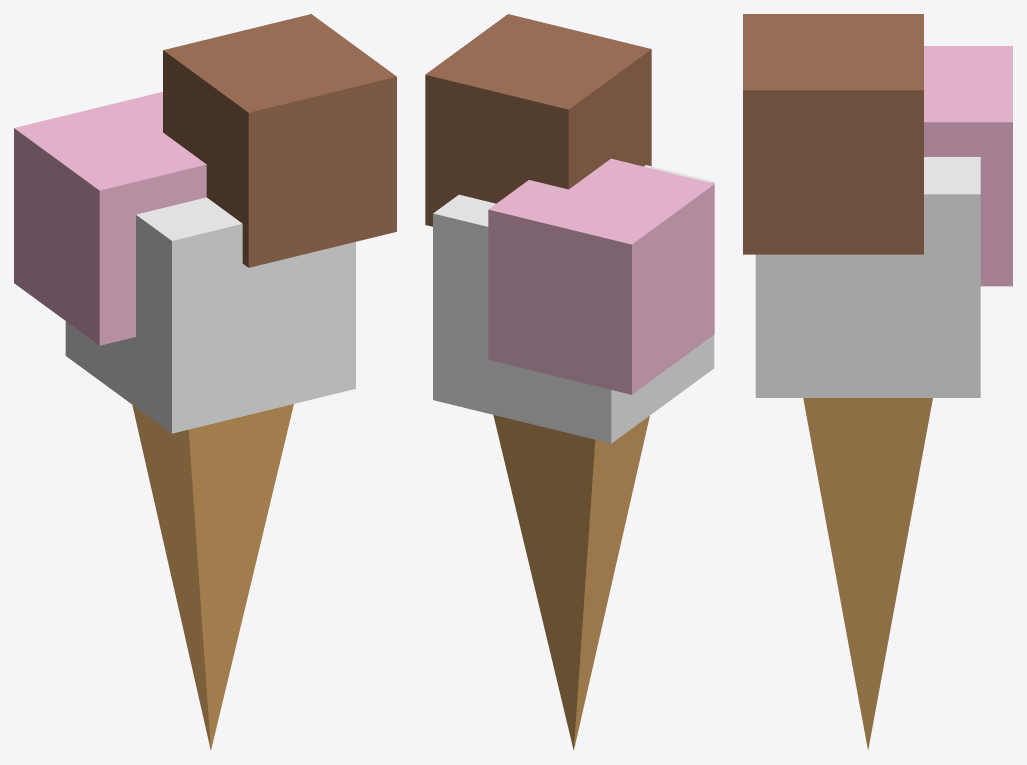
Rendered from CandylandIcecream_06.fbx.
3 views of the same model, side by side, from view 1: azimuth 30°, elevation 25°; view 2: azimuth 150°, elevation 25°; view 3: azimuth 270°, elevation 25° (orthographic). The views are drawn at different scales.
Parts seen in each view (by area): view 1: CandylandIcecream_06; view 2: CandylandIcecream_06; view 3: CandylandIcecream_06.
Boxes of the visible parts, x1,y1,x2,y2 form: CandylandIcecream_06: (14,14,396,750); CandylandIcecream_06: (425,14,714,750); CandylandIcecream_06: (743,14,1012,750).
Bounding box in the file's own units: 0.4376 × 1.12 × 0.3785.
